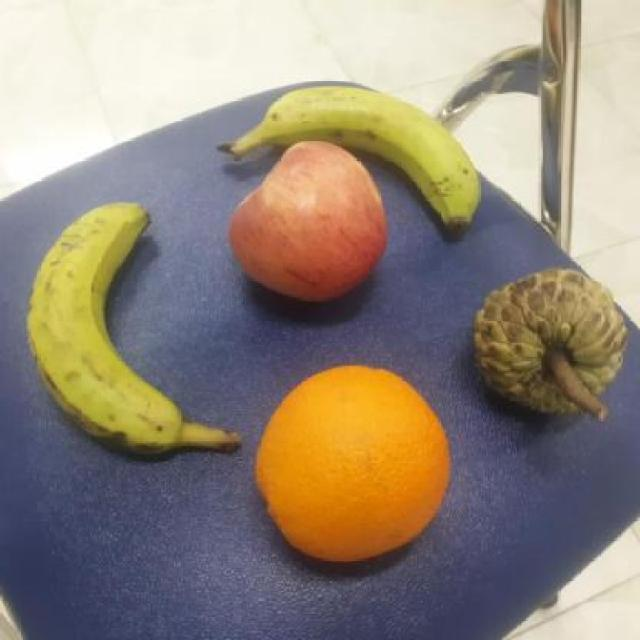apple: (227, 139, 393, 303)
banana: (23, 198, 183, 464)
oren: (254, 362, 452, 560)
sugar apple: (474, 262, 632, 420)
